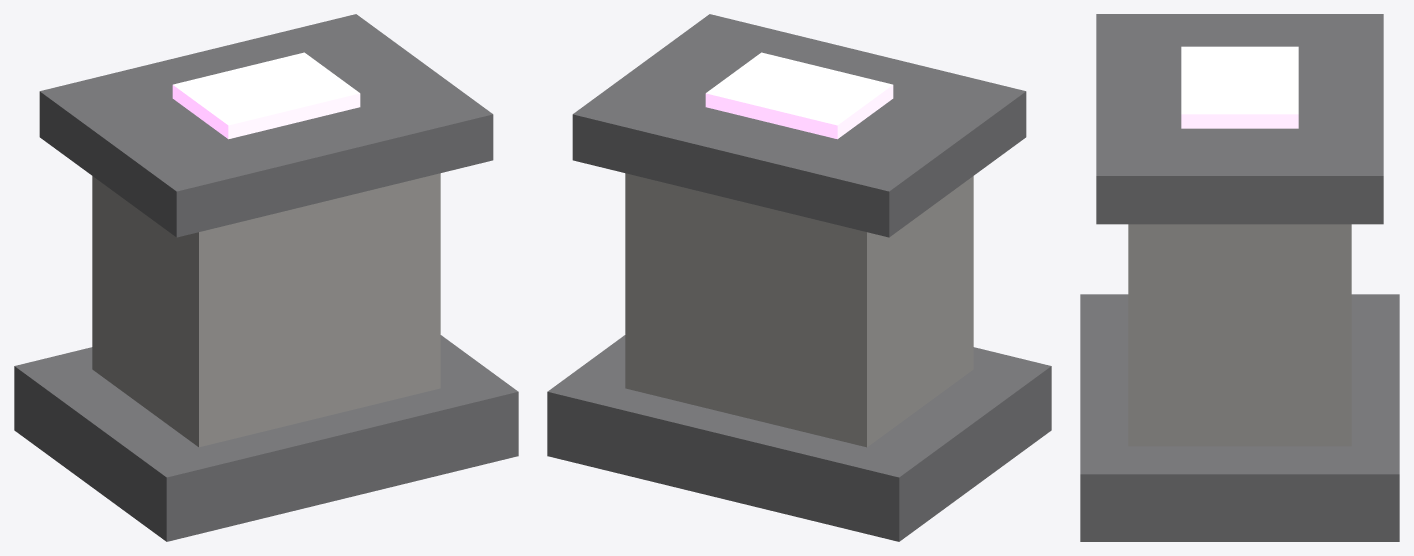
The model's file is station_rune_altar.glb.
The picture shows the model from 3 angles, left to right: view 1: azimuth 30°, elevation 25°; view 2: azimuth 150°, elevation 25°; view 3: azimuth 270°, elevation 25°; orthographic projection. The views are drawn at different scales.
Parts seen in each view (by area): view 1: station_rune_altar; view 2: station_rune_altar; view 3: station_rune_altar.
Boxes of the visible parts, left/top/right/bottom form: station_rune_altar: left=14, top=14, right=518, bottom=541; station_rune_altar: left=547, top=14, right=1051, bottom=541; station_rune_altar: left=1080, top=14, right=1399, bottom=541.
Size of the model in its own units: 0.8 by 0.77 by 0.6.
